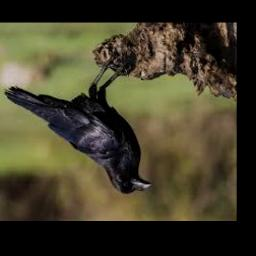Crow: (4, 56, 153, 195)
